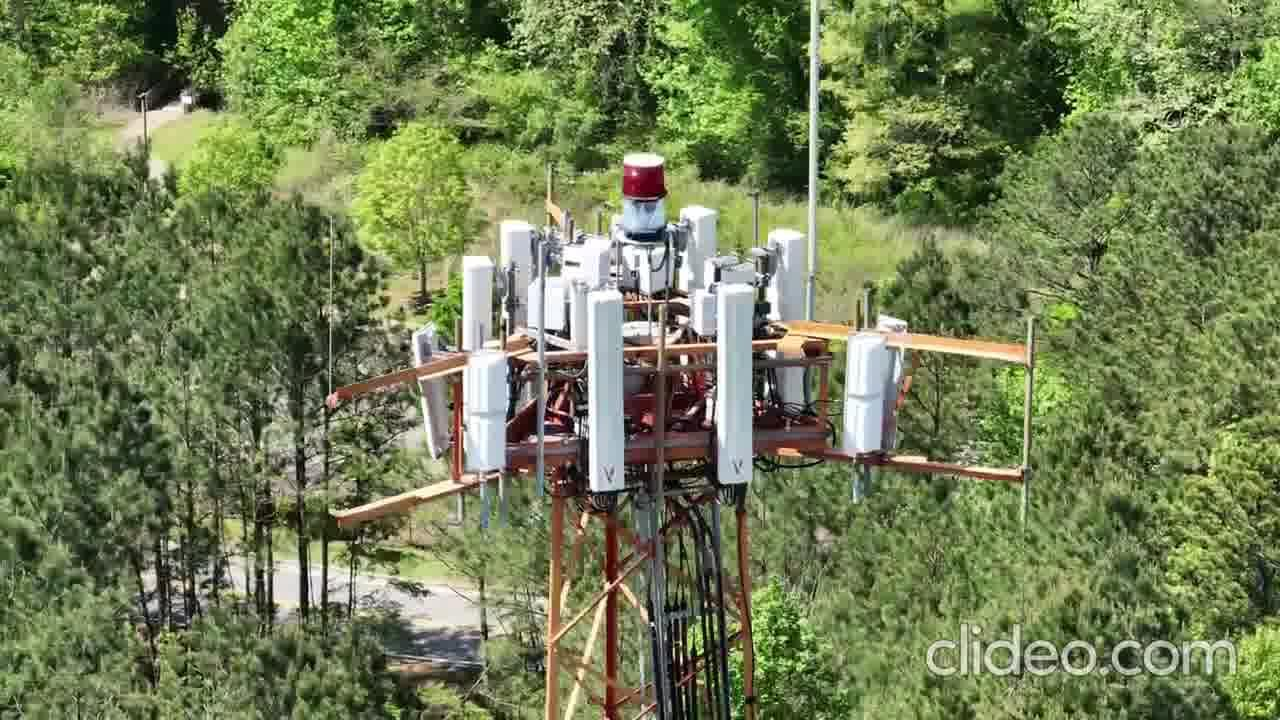antenna: (706, 273, 774, 506), (573, 277, 638, 499), (832, 319, 903, 459), (451, 345, 515, 482), (401, 325, 458, 451), (459, 247, 495, 348), (503, 213, 533, 328)
